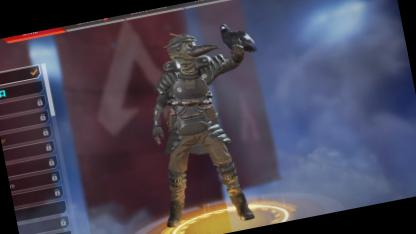Target: (142, 25, 240, 201)
